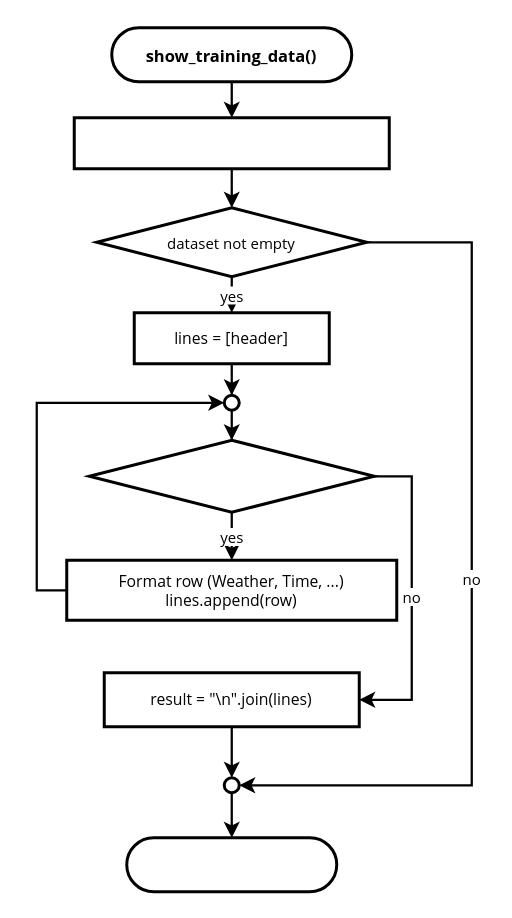
The diagram is 512 pixels wide and 918 high, and some of its shapes have lost their labels. The shapes that lost their labels are listed below. From the top down, each one's centre as x and y in pixels, then its label:
(x=231, y=143): result = "No data available"
(x=231, y=475): For each row in dataset
(x=231, y=864): return result
